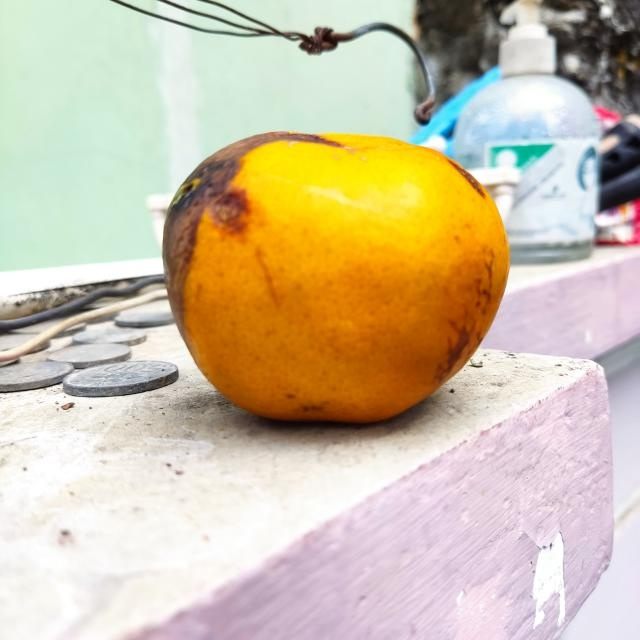agrume: (160, 130, 512, 428)
